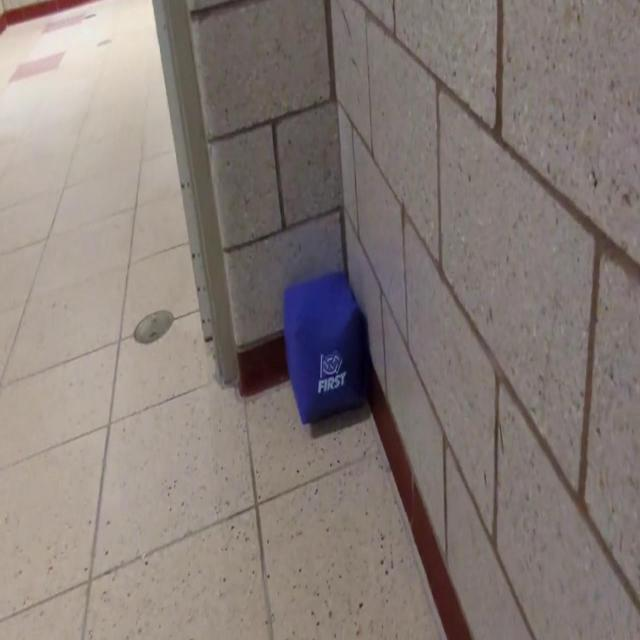frc_cube: (283, 273, 363, 426)
